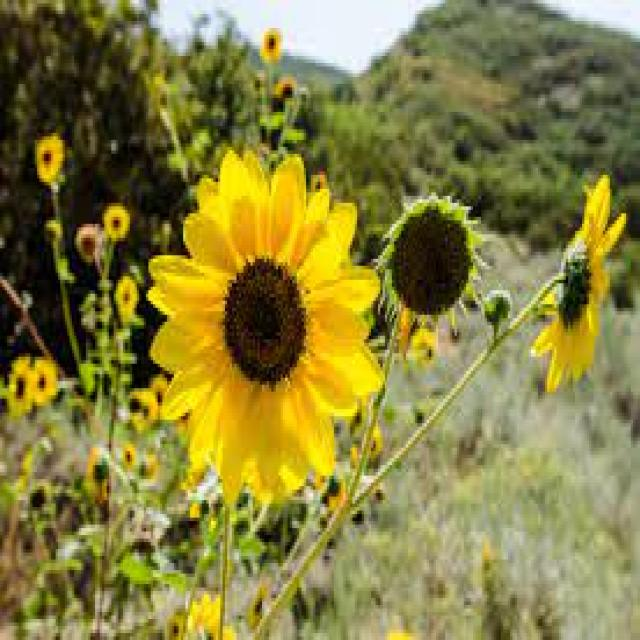sunflower: (144, 142, 396, 514), (525, 165, 628, 402), (375, 183, 492, 367), (80, 446, 120, 508), (32, 130, 66, 194), (5, 350, 35, 420), (410, 321, 443, 383), (25, 351, 58, 407), (74, 216, 105, 275), (112, 270, 140, 329), (101, 202, 132, 248), (131, 386, 160, 434), (257, 27, 287, 65), (271, 73, 302, 108), (148, 367, 168, 410)
